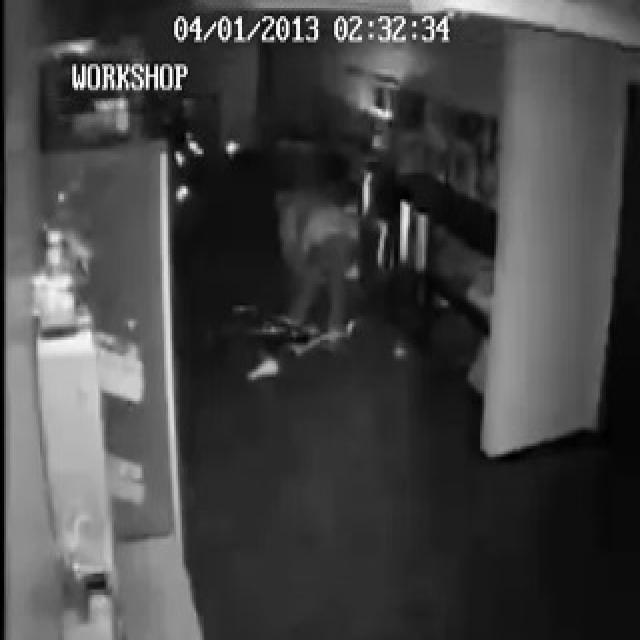thief: (272, 174, 358, 326)
